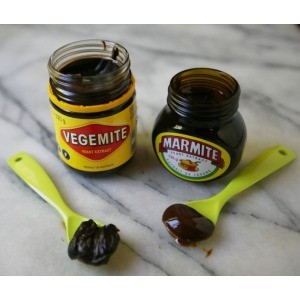yeast spread_brain food: (46, 39, 135, 179), (150, 65, 246, 184), (65, 217, 122, 266), (160, 200, 215, 244)
